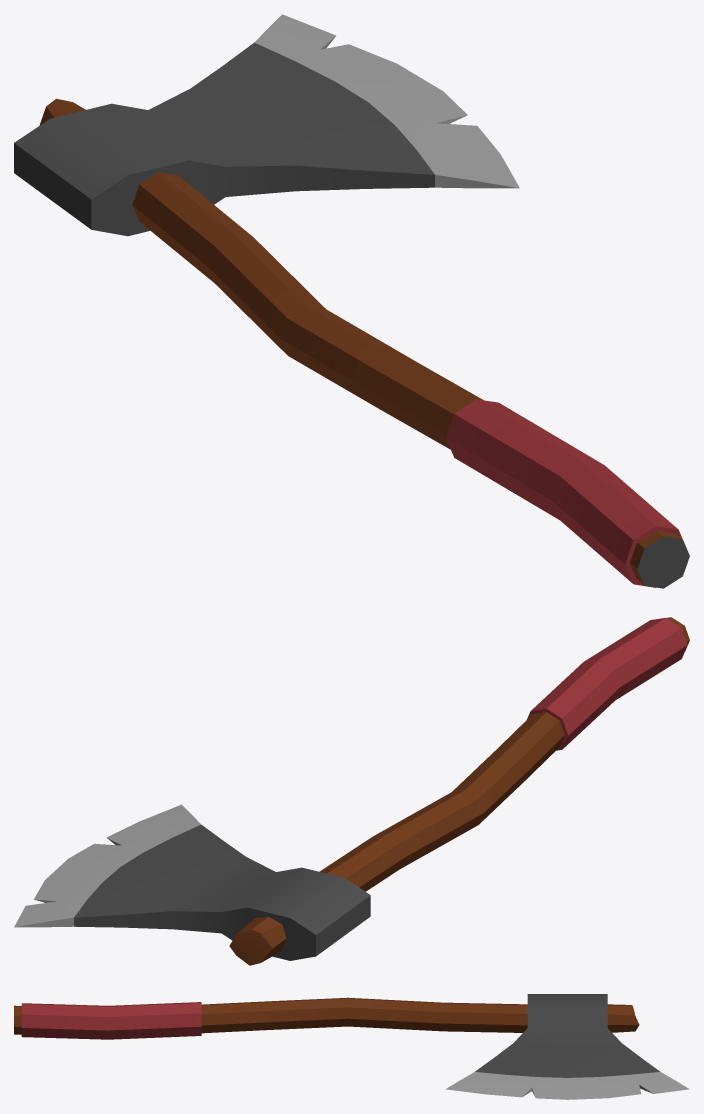
The model's file is Axe.fbx.
3 renders of one model, top to bottom at view 1: azimuth 30°, elevation 25°; view 2: azimuth 150°, elevation 25°; view 3: azimuth 270°, elevation 25°, orthographic. The views are drawn at different scales.
Parts seen in each view (by area): view 1: Plane; view 2: Plane; view 3: Plane.
Part boxes in pixels (x1,y1,x2,y2): Plane: (14,14,689,588); Plane: (14,617,689,965); Plane: (14,994,689,1099).
Size of the model in its own units: 5.82 by 0.8824 by 16.96.
